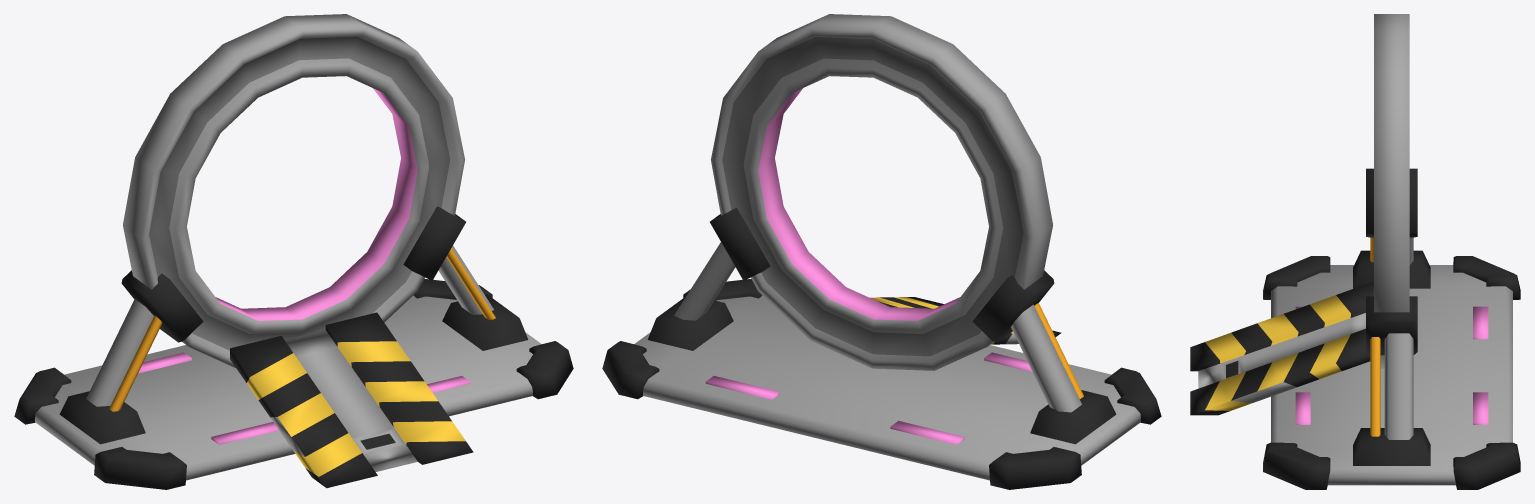
Rendered from SciFiPortal_Parts.fbx.
3 renders of one model, left to right at view 1: azimuth 30°, elevation 25°; view 2: azimuth 150°, elevation 25°; view 3: azimuth 270°, elevation 25°, orthographic. The views are drawn at different scales.
Visible parts, largest first — view 1: scifi-portal.parts.001, scifi-portal.parts, scifi-portal.parts.004, scifi-portal.parts.003, scifi-portal.parts.007, scifi-portal.parts.008, scifi-portal.parts.006, scifi-portal.parts.002, scifi-portal.parts.005; view 2: scifi-portal.parts, scifi-portal.parts.001, scifi-portal.parts.003, scifi-portal.parts.007, scifi-portal.parts.008, scifi-portal.parts.002, scifi-portal.parts.004, scifi-portal.parts.006; view 3: scifi-portal.parts, scifi-portal.parts.004, scifi-portal.parts.001, scifi-portal.parts.002, scifi-portal.parts.008, scifi-portal.parts.007, scifi-portal.parts.005.
Boxes of the visible parts, box(x1,y1,x2,y2) form: scifi-portal.parts.001: box(123, 14, 464, 368); scifi-portal.parts: box(14, 279, 573, 489); scifi-portal.parts.004: box(230, 312, 473, 488); scifi-portal.parts.003: box(86, 299, 153, 406); scifi-portal.parts.007: box(121, 270, 203, 342); scifi-portal.parts.008: box(403, 206, 465, 280); scifi-portal.parts.006: box(109, 315, 162, 411); scifi-portal.parts.002: box(438, 245, 493, 314); scifi-portal.parts.005: box(446, 248, 495, 319); scifi-portal.parts: box(602, 279, 1161, 489); scifi-portal.parts.001: box(711, 14, 1052, 370); scifi-portal.parts.003: box(1011, 304, 1081, 412); scifi-portal.parts.007: box(972, 270, 1054, 342); scifi-portal.parts.008: box(710, 208, 770, 280); scifi-portal.parts.002: box(674, 242, 735, 320); scifi-portal.parts.004: box(870, 297, 1061, 344); scifi-portal.parts.006: box(1034, 303, 1083, 398); scifi-portal.parts: box(1263, 250, 1520, 489); scifi-portal.parts.004: box(1190, 281, 1373, 415); scifi-portal.parts.001: box(1374, 14, 1409, 368); scifi-portal.parts.002: box(1384, 333, 1413, 439); scifi-portal.parts.008: box(1366, 296, 1417, 355); scifi-portal.parts.007: box(1366, 168, 1417, 237); scifi-portal.parts.005: box(1370, 337, 1380, 436).
Size of the model in its own units: 637 by 480 by 410.
Materials: 1 (1 with a texture image).
